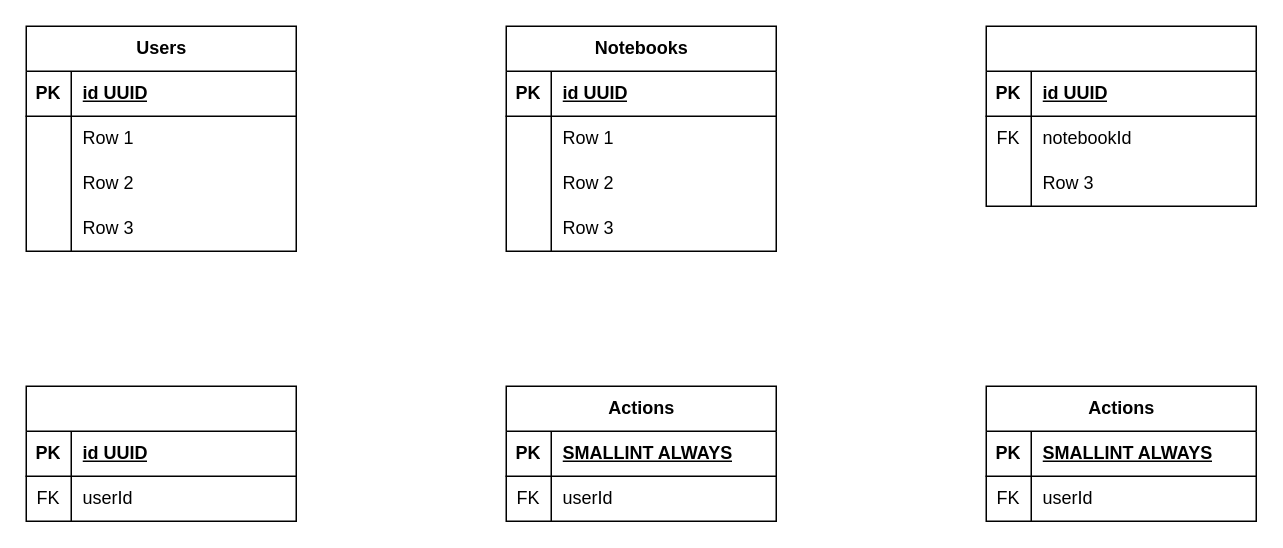
The diagram is 1283 pixels wide and 548 high, and some of its shapes have lost their labels. Each missing label, with the box of its shape:
Notes: (985, 25, 1256, 206)
Tags: (25, 385, 296, 521)
